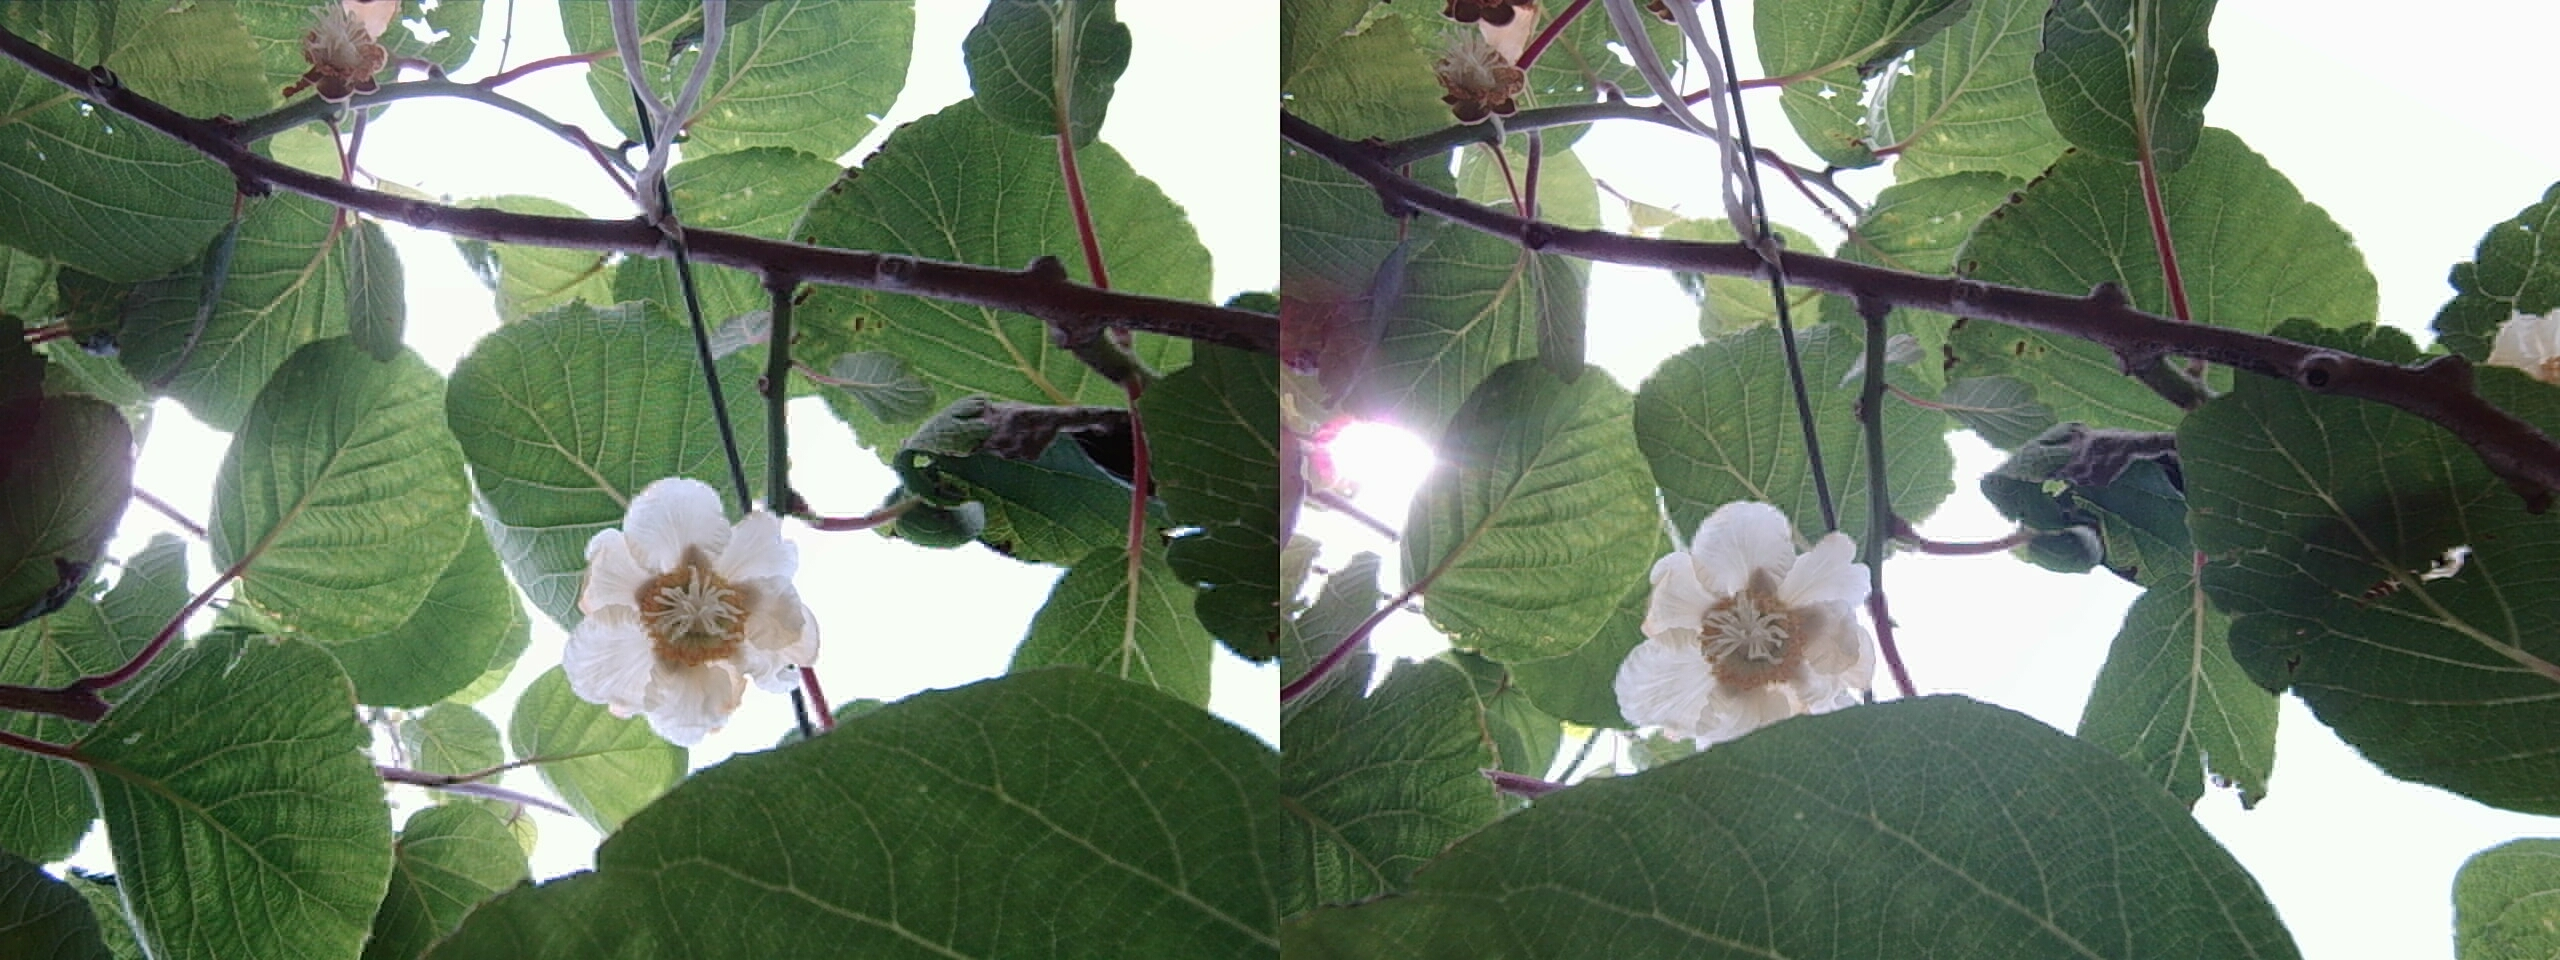flower: (567, 470, 815, 743), (1628, 495, 1873, 741)
